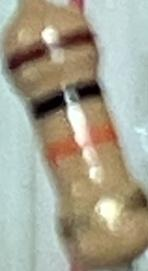Black: (25, 75, 105, 123)
Brown: (4, 25, 96, 75)
Orange: (43, 120, 119, 168)
Side-Silver: (57, 188, 147, 244)
